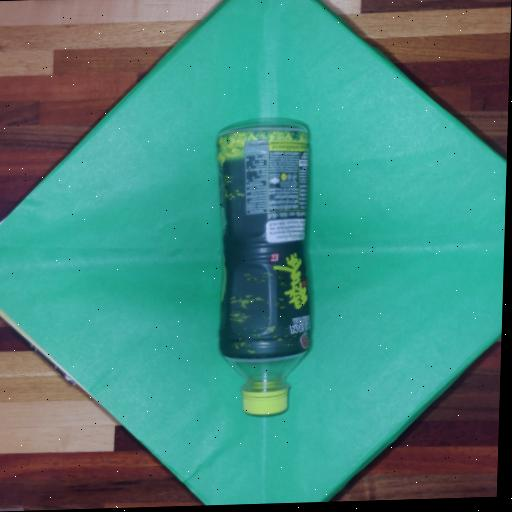bottle: (210, 119, 318, 419)
